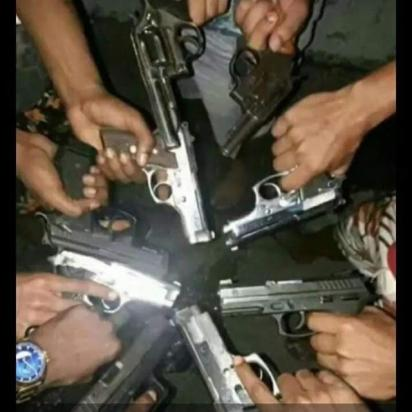Gun: (19, 0, 386, 412)
